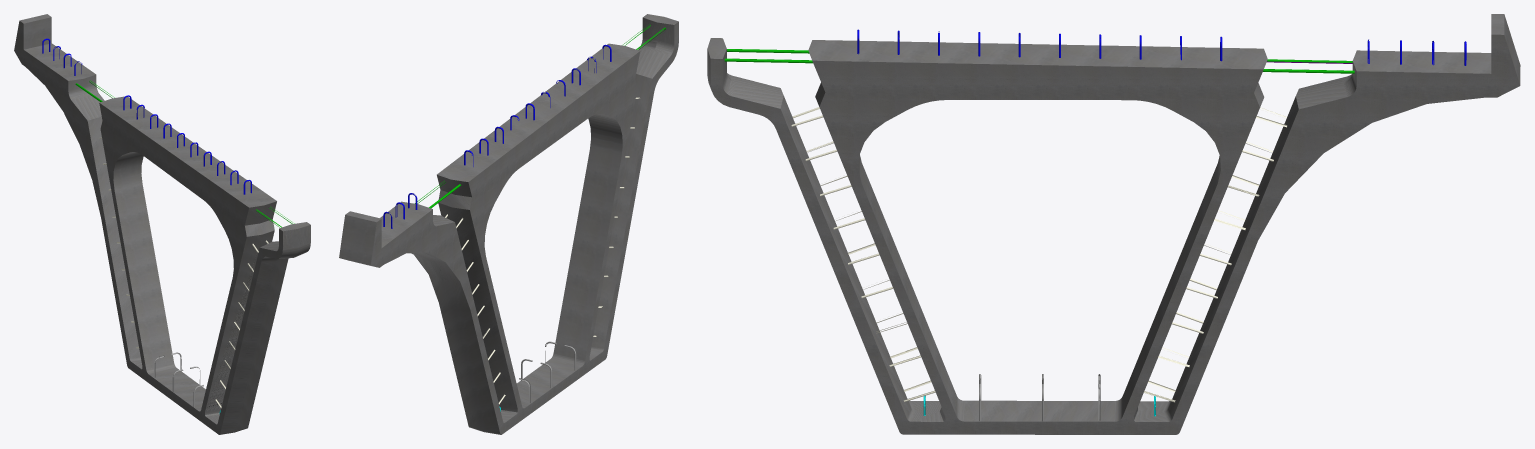
File: Nodualr_nodule1.glb
3 renders of one model, left to right at view 1: azimuth 30°, elevation 25°; view 2: azimuth 150°, elevation 25°; view 3: azimuth 270°, elevation 25°, orthographic. The views are drawn at different scales.
Parts seen in each view (by area): view 1: Node; view 2: Node; view 3: Node.
Part boxes in pixels (x1=…): Node: x1=14, y1=14, x2=310, y2=434; Node: x1=339, y1=14, x2=678, y2=434; Node: x1=707, y1=14, x2=1520, y2=434.
Bounding box in the file's own units: 0.3148 × 2.74 × 5.04.
20 materials, 1 textured.
